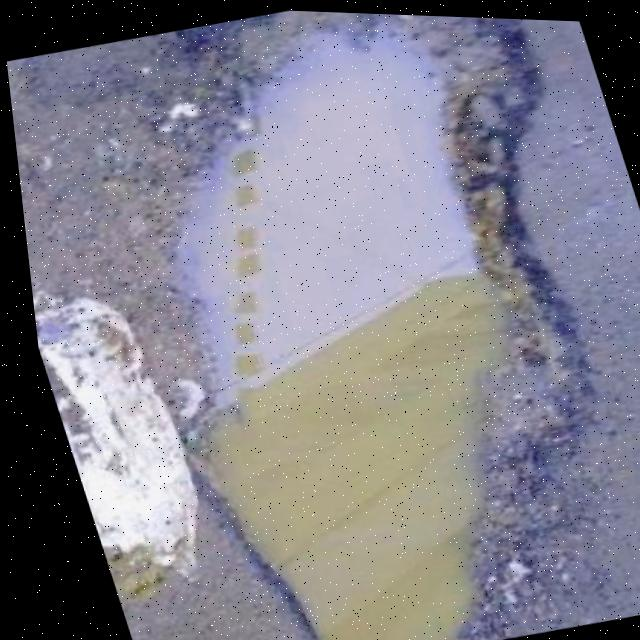Pothole: (45, 1, 640, 640)
